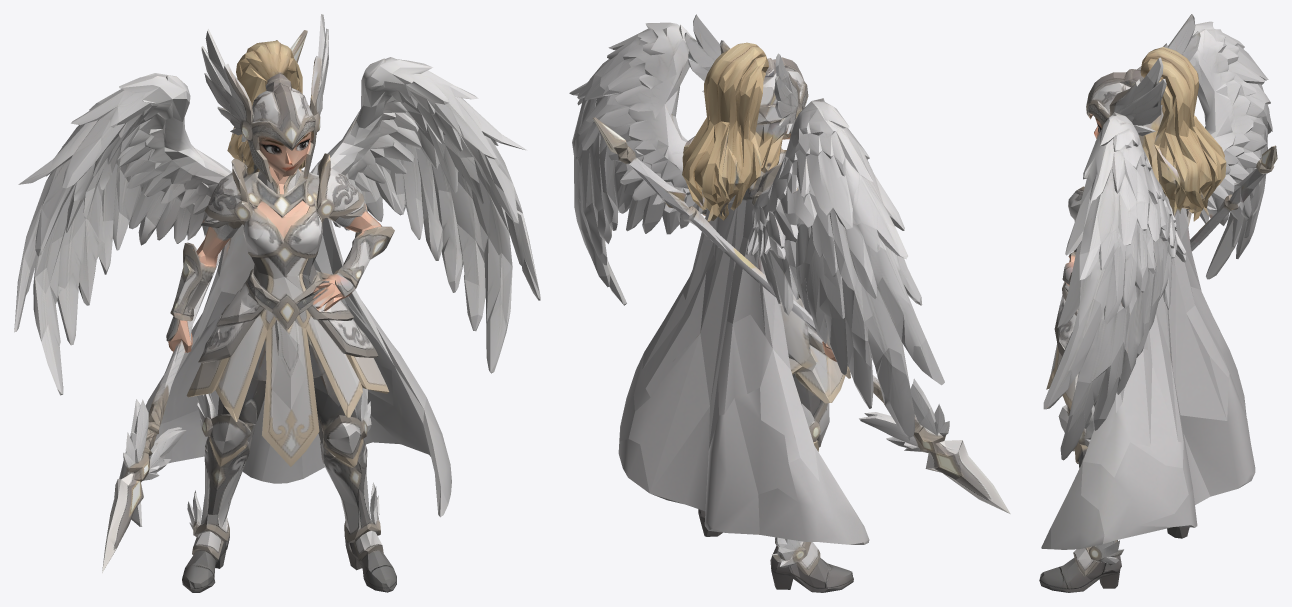
3 views of the same model, side by side, from view 1: azimuth 30°, elevation 25°; view 2: azimuth 150°, elevation 25°; view 3: azimuth 270°, elevation 25° (orthographic). The views are drawn at different scales.
Size of the model in its own units: 1.64 by 1.9 by 0.7833.
Materials: 1 (1 with a texture image).
